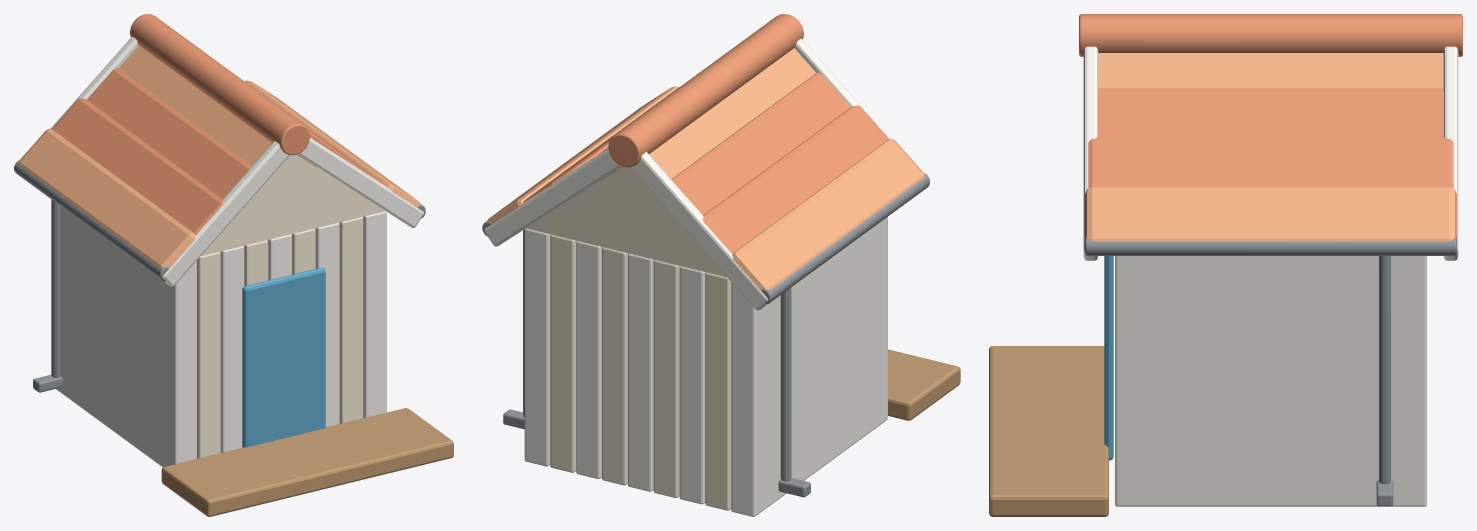
Rendered from beach_hut.fbx.
3 renders of one model, left to right at view 1: azimuth 30°, elevation 25°; view 2: azimuth 150°, elevation 25°; view 3: azimuth 270°, elevation 25°, orthographic. The views are drawn at different scales.
Parts seen in each view (by area): view 1: Visual; view 2: Visual; view 3: Visual.
Part boxes in pixels (x1,y1,x2,y2): Visual: (14,14,453,516); Visual: (482,14,960,516); Visual: (989,14,1462,516).
Size of what is drawn, in the model's own units: 338 by 392 by 395.
